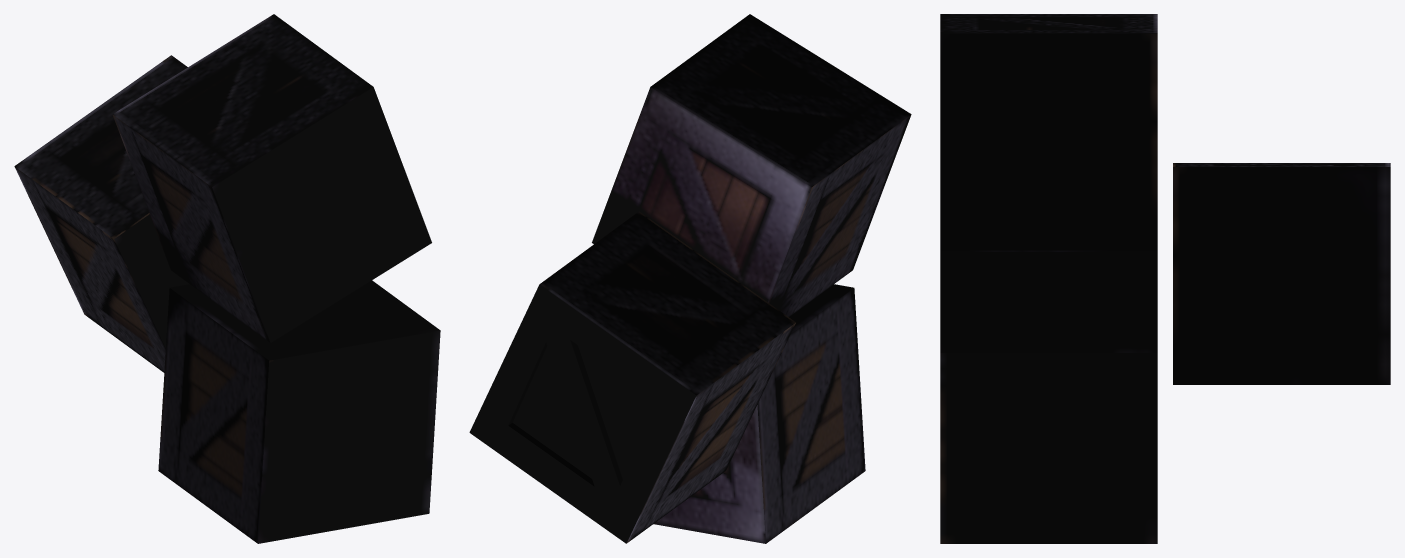
Rendered from ex_Crate.obj.
3 renders of one model, left to right at view 1: azimuth 30°, elevation 25°; view 2: azimuth 150°, elevation 25°; view 3: azimuth 270°, elevation 25°, orthographic. The views are drawn at different scales.
Parts seen in each view (by area): view 1: CrateLoRes_Cube.015; view 2: CrateLoRes_Cube.015; view 3: CrateLoRes_Cube.015.
Part boxes in pixels (left/top/right/bottom): CrateLoRes_Cube.015: left=14, top=14, right=440, bottom=543; CrateLoRes_Cube.015: left=469, top=14, right=911, bottom=543; CrateLoRes_Cube.015: left=940, top=14, right=1390, bottom=543.
Bounding box in the file's own units: 49.82 × 88.91 × 75.52.
